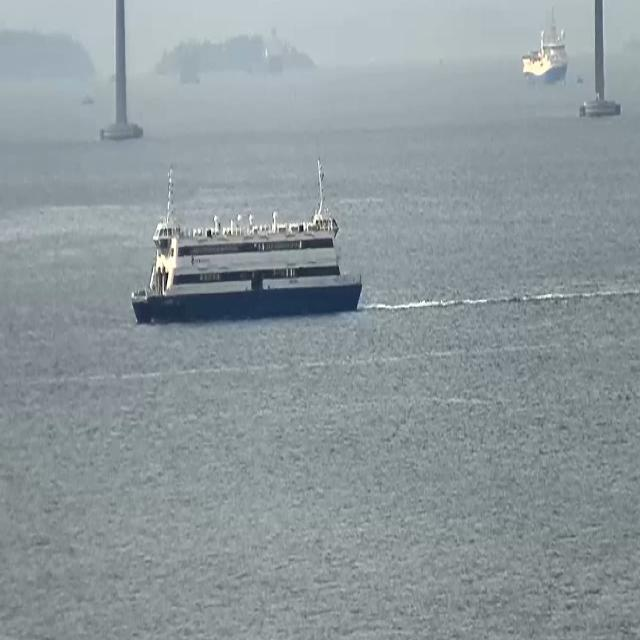Passenger: (131, 161, 362, 322)
